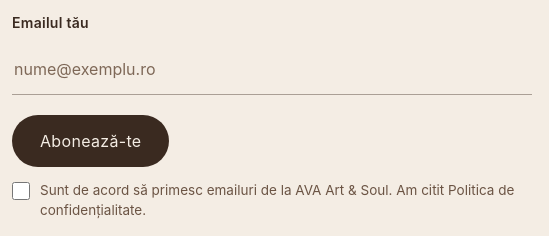
<NewsletterForm> (launch checklist 11, 12, 13) › disables the button and says „Se trimite…” while sending, then thanks you
The image size is (549, 236).
Later steps or results of the test are not shown.
In the field labelled "Emailul tău": (272, 69) left=12, top=43, right=532, bottom=95, type "ana@exemplu.ro"
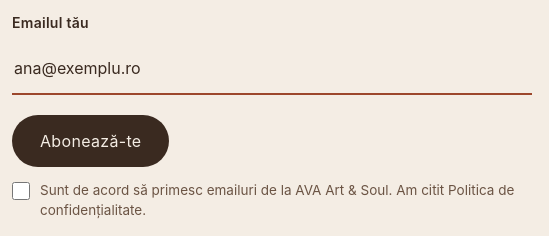
Click the checkbox: (21, 191) left=12, top=182, right=30, bottom=200
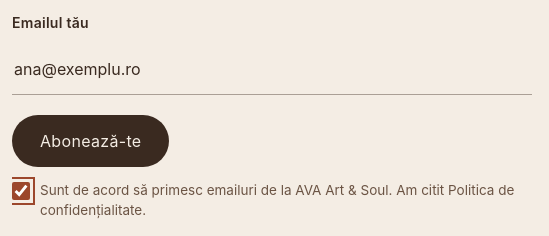
Click the button: (91, 141) left=12, top=115, right=170, bottom=167
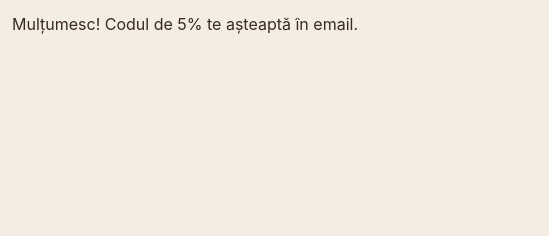
Result: the message reads "Mulțumesc! Codul de 5% te așteaptă în email." at left=12, top=14, right=358, bottom=34
